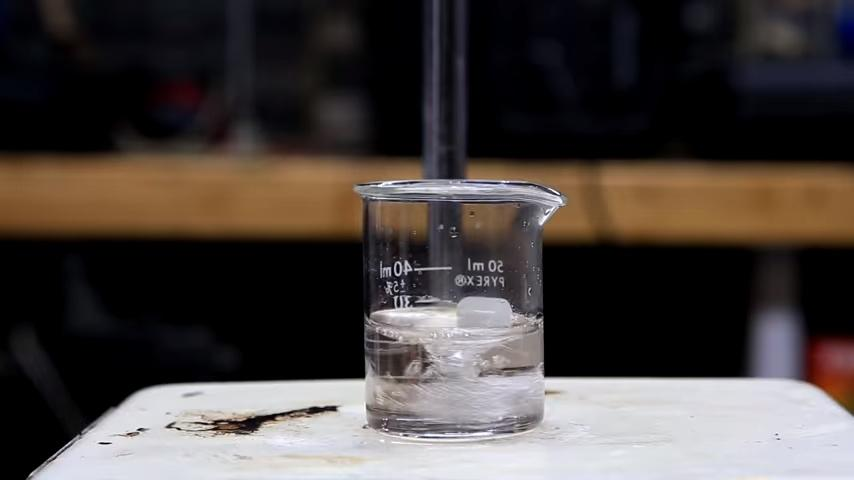Beaker: (342, 176, 569, 444)
